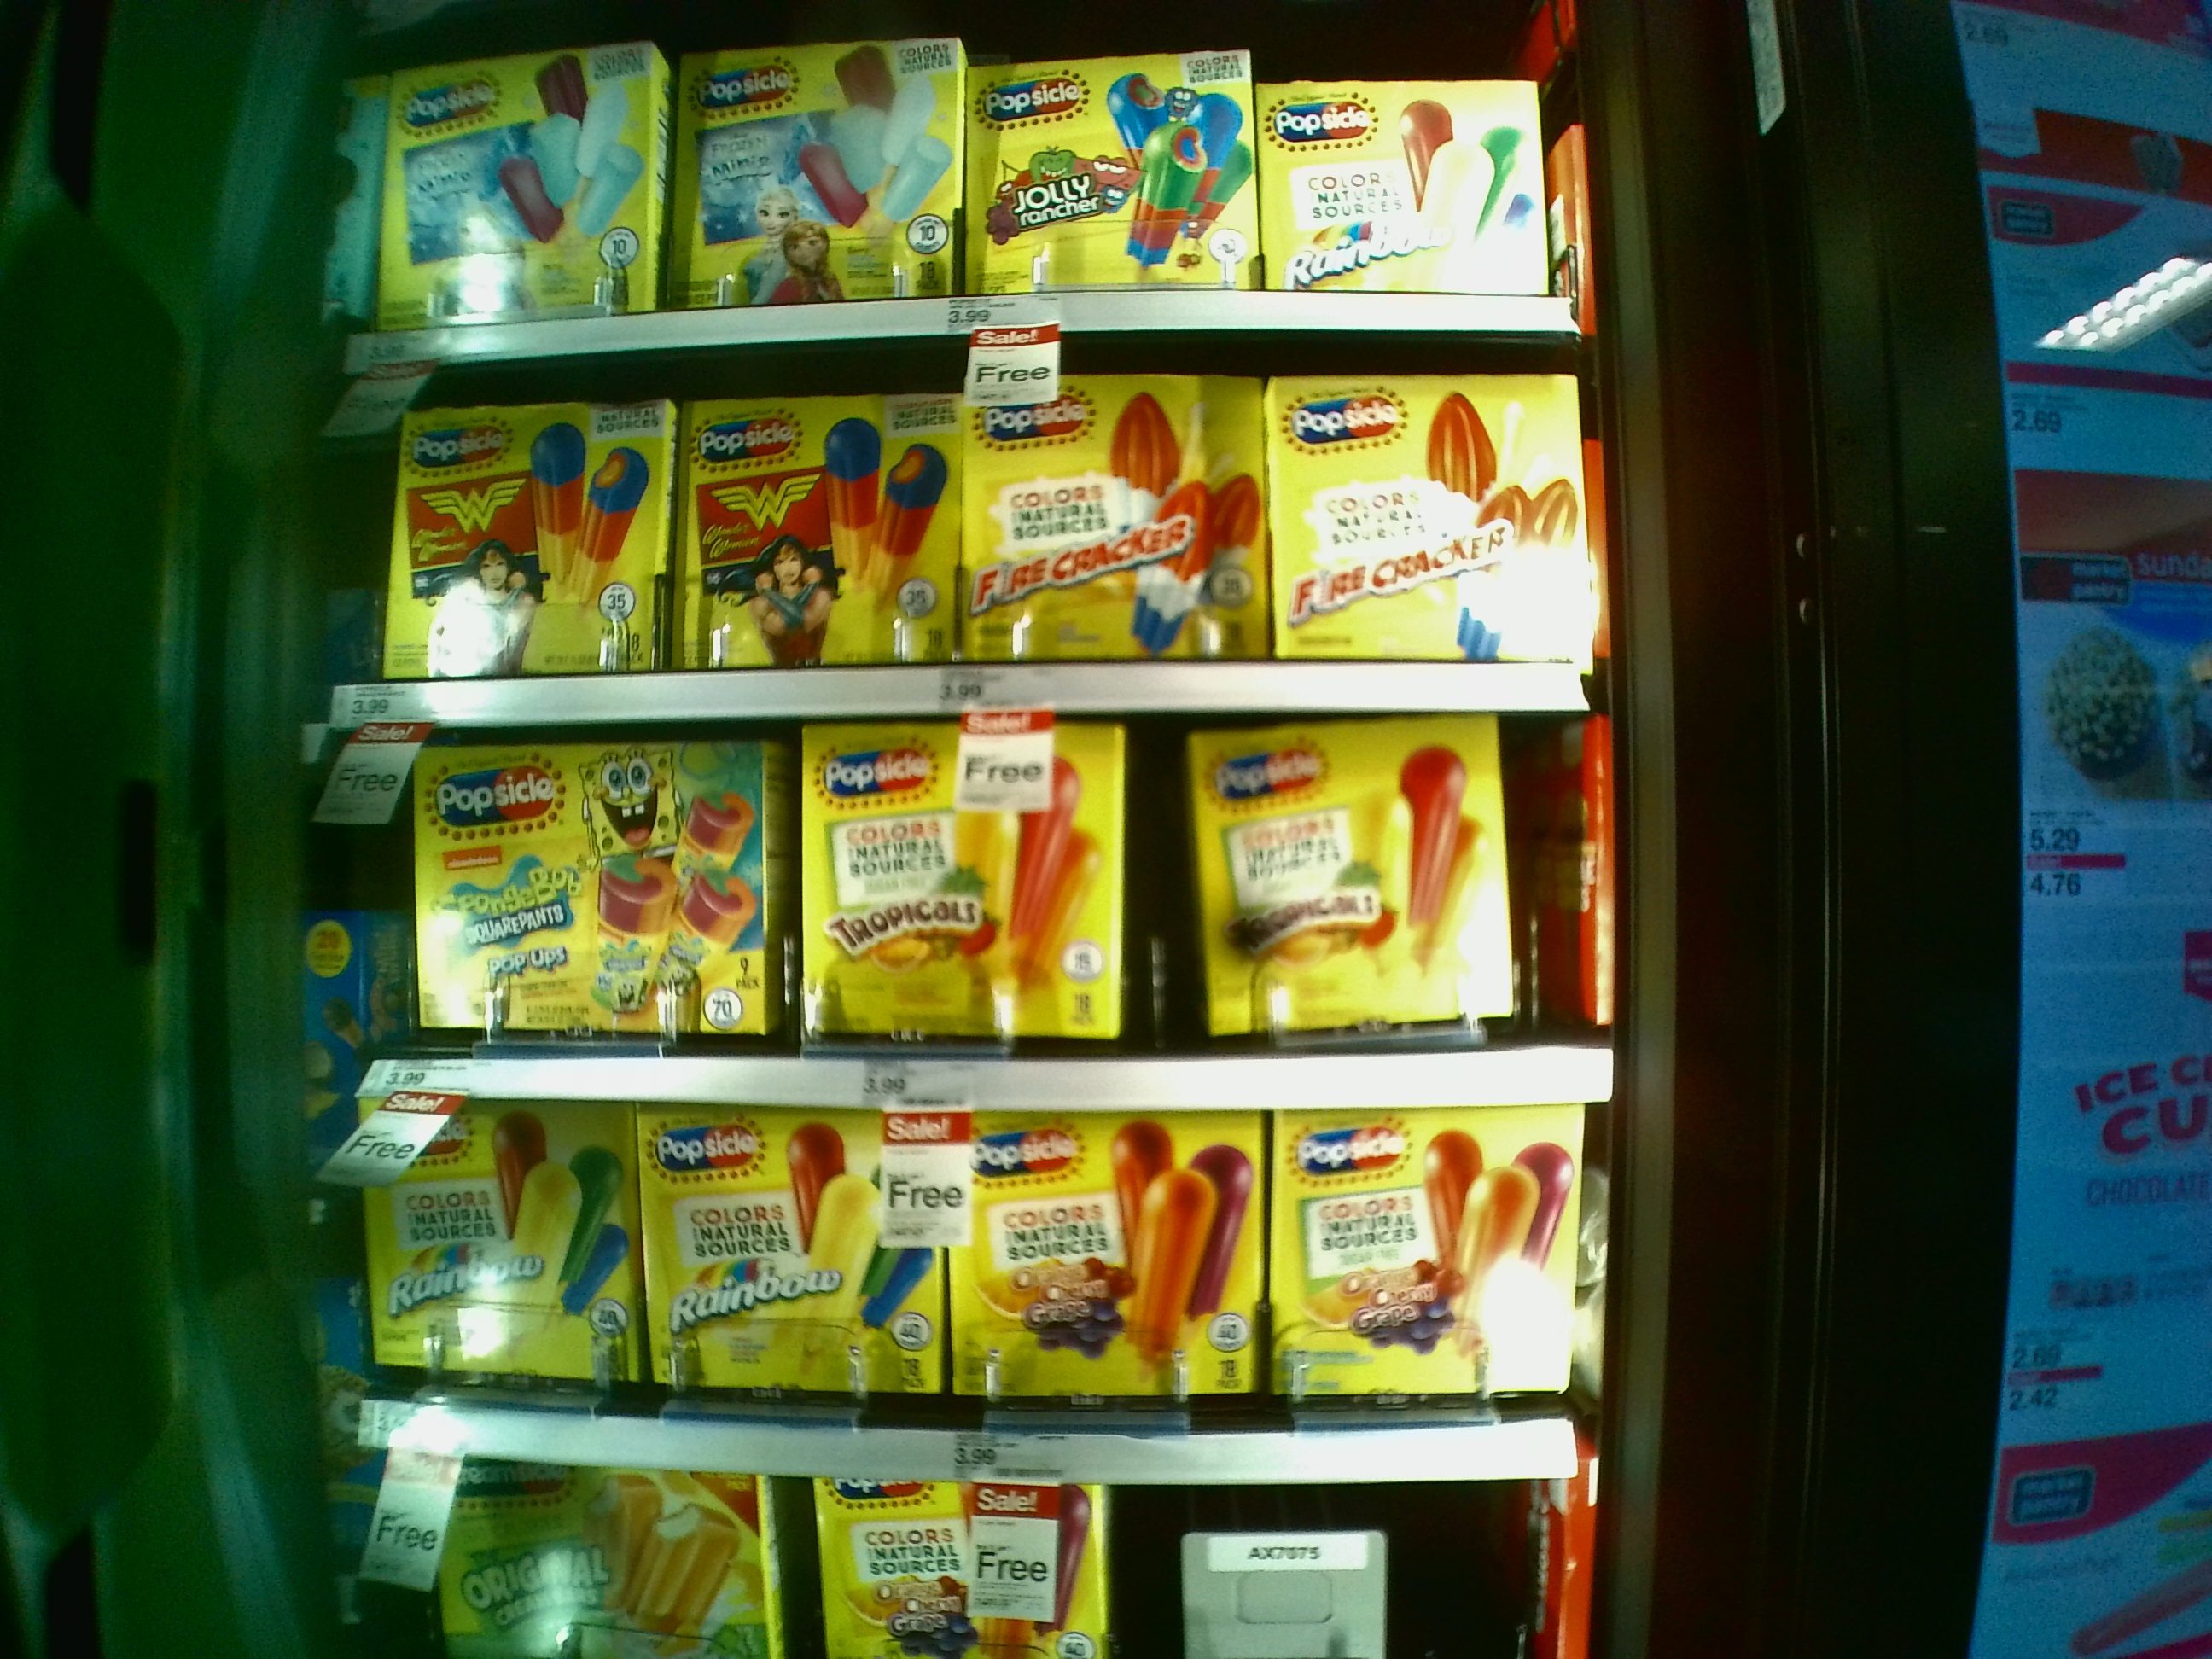shelf: (361, 720, 1615, 1101), (366, 1096, 1578, 1490), (343, 357, 1587, 713), (340, 12, 1573, 345)
